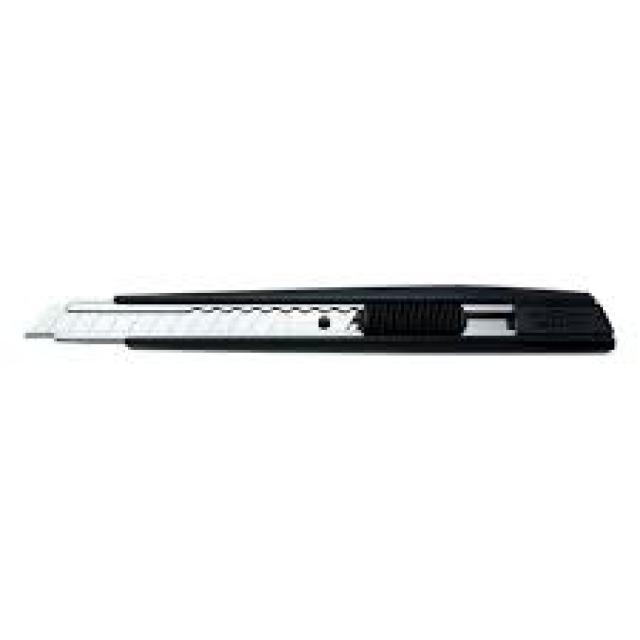cutter: (16, 289, 633, 362)
